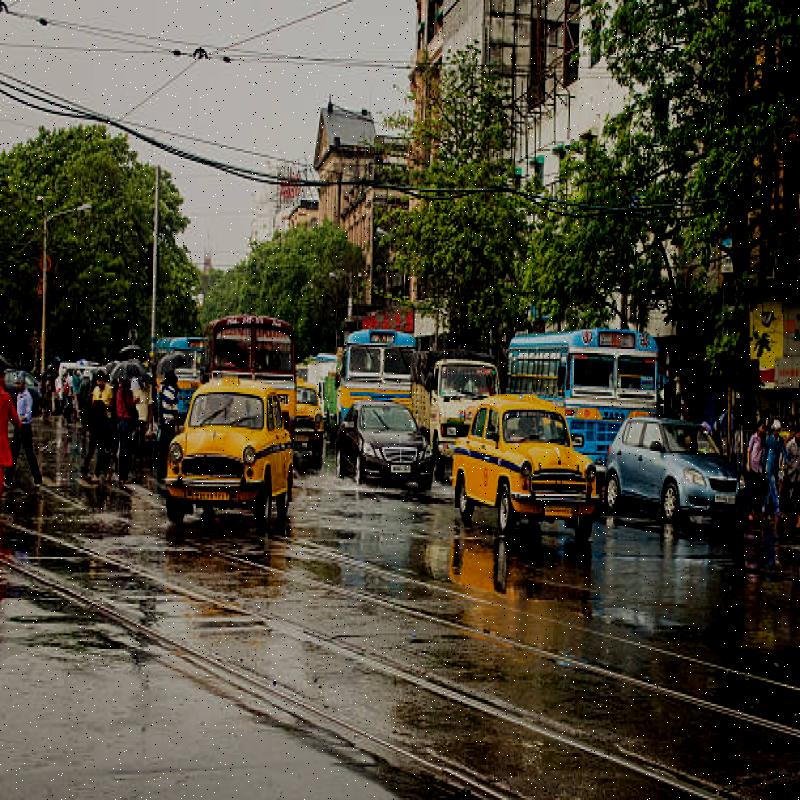car: (453, 396, 570, 541), (186, 376, 292, 536)
